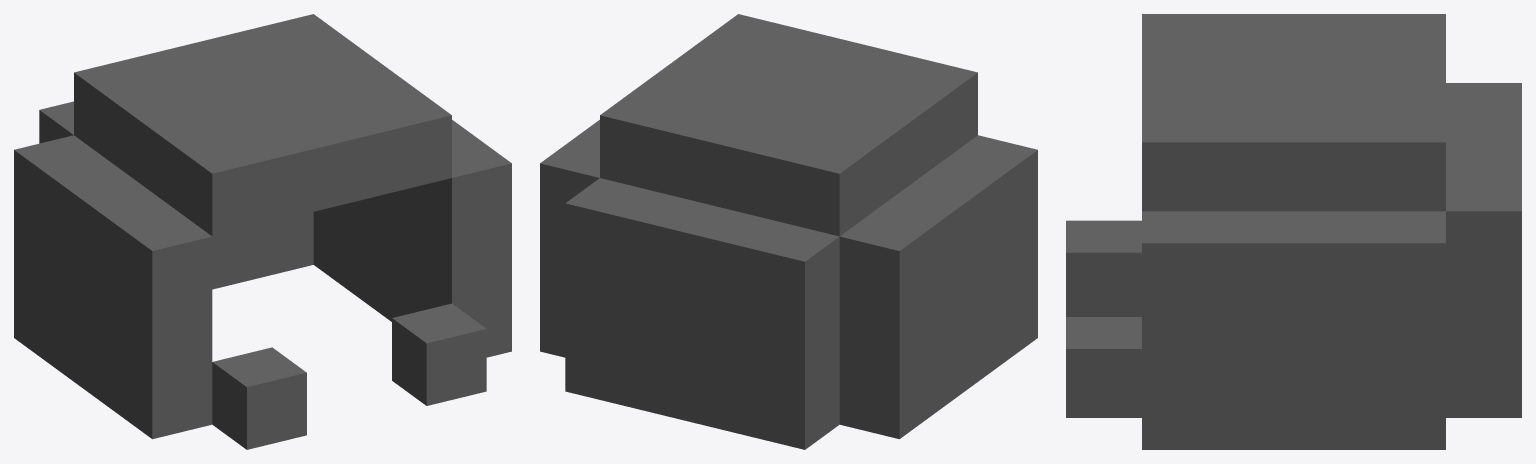
Rendered from helmet.obj.
The picture shows the model from 3 angles, left to right: view 1: azimuth 30°, elevation 25°; view 2: azimuth 150°, elevation 25°; view 3: azimuth 270°, elevation 25°; orthographic projection. The views are drawn at different scales.
Size of the model in its own units: 0.6 by 0.4 by 0.6.
Materials: 1 (1 with a texture image).
